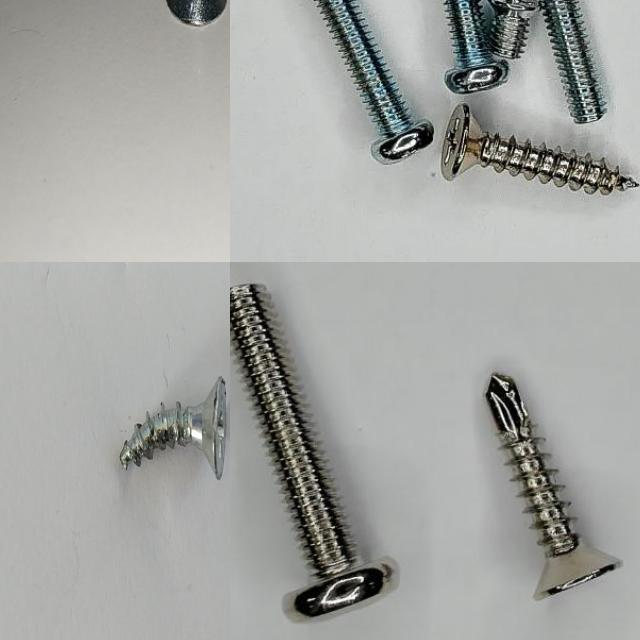Screw: (230, 285, 397, 623), (487, 374, 623, 601), (314, 0, 434, 165), (442, 105, 639, 196), (120, 376, 227, 479), (541, 0, 606, 124), (445, 0, 510, 94), (488, 0, 540, 60)
